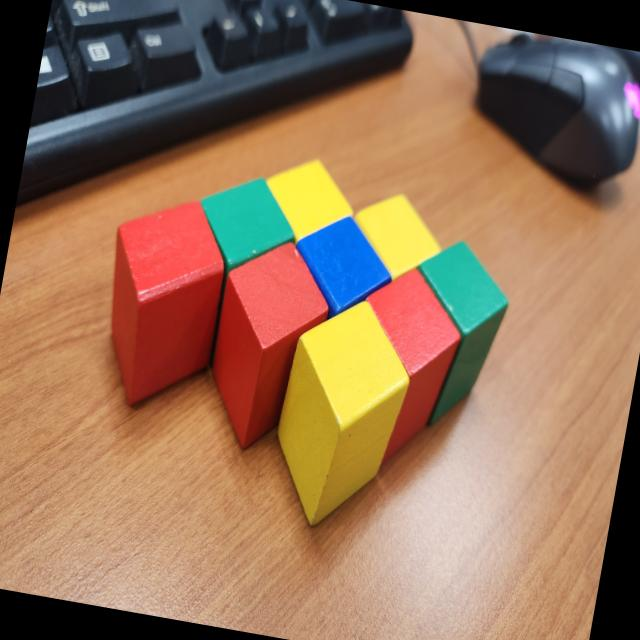blue: (282, 207, 402, 339)
green: (170, 165, 304, 376), (388, 231, 518, 440)
red: (85, 185, 236, 415), (196, 228, 338, 462), (336, 256, 472, 478)
yellow: (260, 288, 422, 540), (252, 130, 365, 260), (343, 183, 451, 288)
